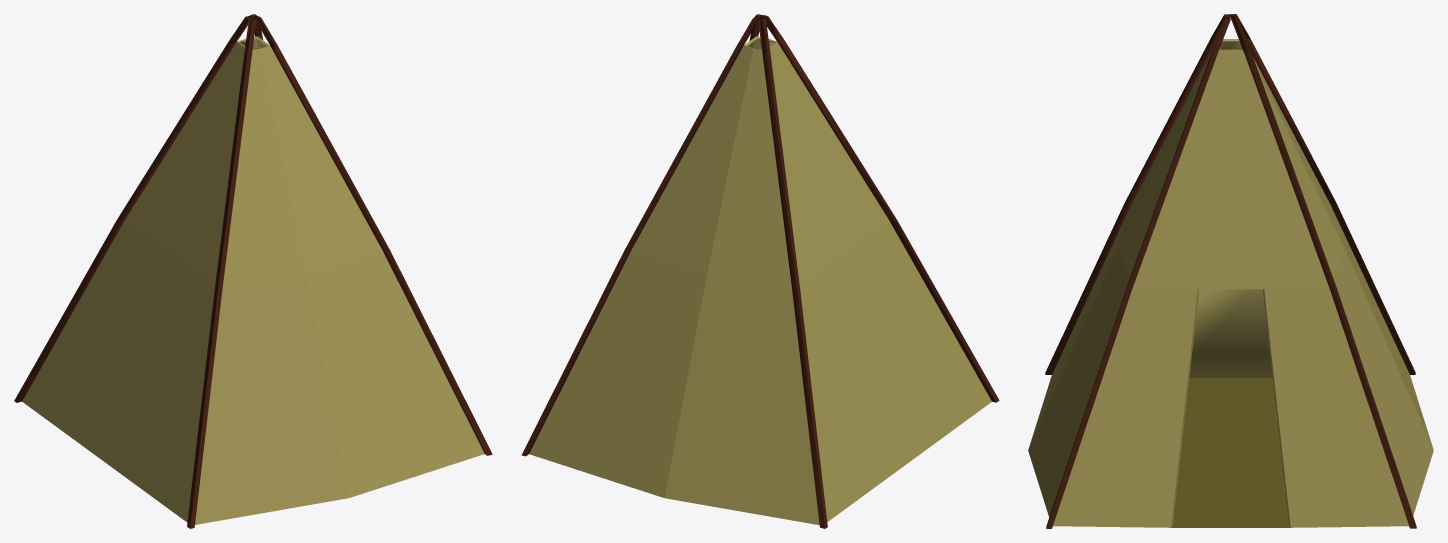
The model's file is TiendaCampañaIndia.fbx.
3 renders of one model, left to right at view 1: azimuth 30°, elevation 25°; view 2: azimuth 150°, elevation 25°; view 3: azimuth 270°, elevation 25°, orthographic. The views are drawn at different scales.
Parts seen in each view (by area): view 1: Cabaña; view 2: Cabaña; view 3: Cabaña.
Boxes of the visible parts, x1,y1,x2,y2 form: Cabaña: [14, 14, 492, 528]; Cabaña: [521, 14, 999, 528]; Cabaña: [1028, 14, 1433, 528].
Size of the model in its own units: 2.08 by 2.7 by 2.28.
